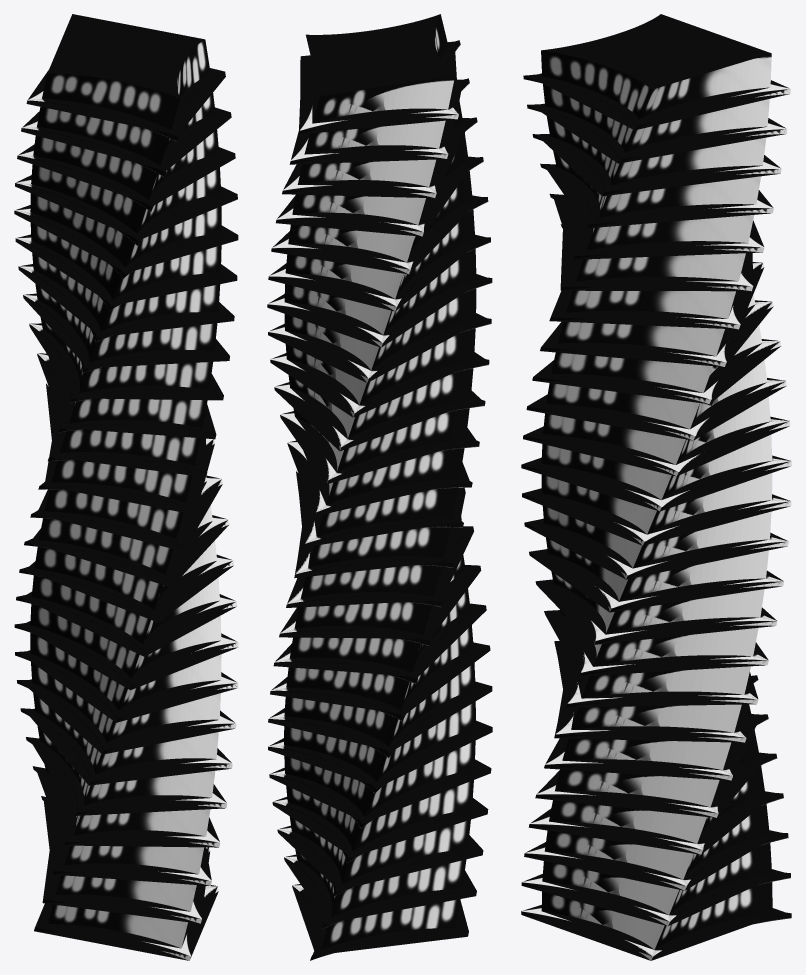
File: Blender building (3) do 4.fbx
The picture shows the model from 3 angles, left to right: view 1: azimuth 30°, elevation 25°; view 2: azimuth 150°, elevation 25°; view 3: azimuth 270°, elevation 25°; orthographic projection.
Parts seen in each view (by area): view 1: NurbsCircle.001; view 2: NurbsCircle.001; view 3: NurbsCircle.001.
Boxes of the visible parts, x1=… form: NurbsCircle.001: x1=14, y1=14, x2=238, y2=960; NurbsCircle.001: x1=267, y1=14, x2=492, y2=960; NurbsCircle.001: x1=521, y1=14, x2=791, y2=960.
Bounding box in the file's own units: 657 × 2977 × 845.
